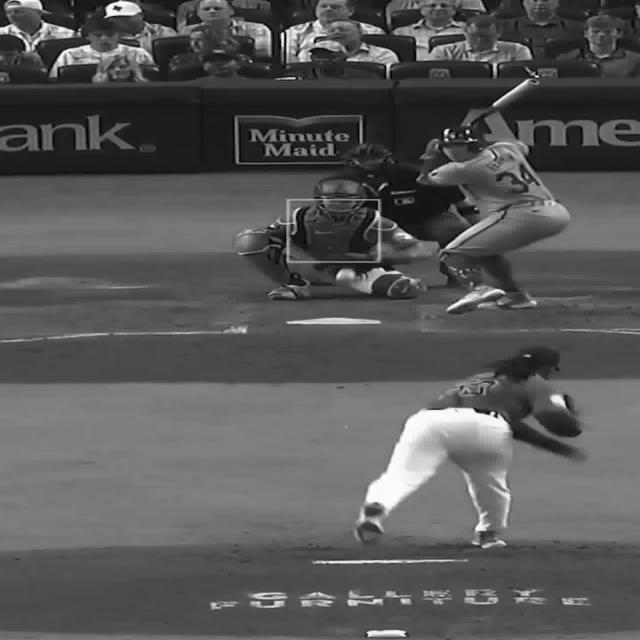baseball: (340, 272, 357, 280)
bat: (458, 75, 544, 129)
shoe: (444, 285, 505, 314), (352, 502, 388, 544), (495, 290, 538, 310), (470, 528, 506, 548), (267, 284, 297, 300)
